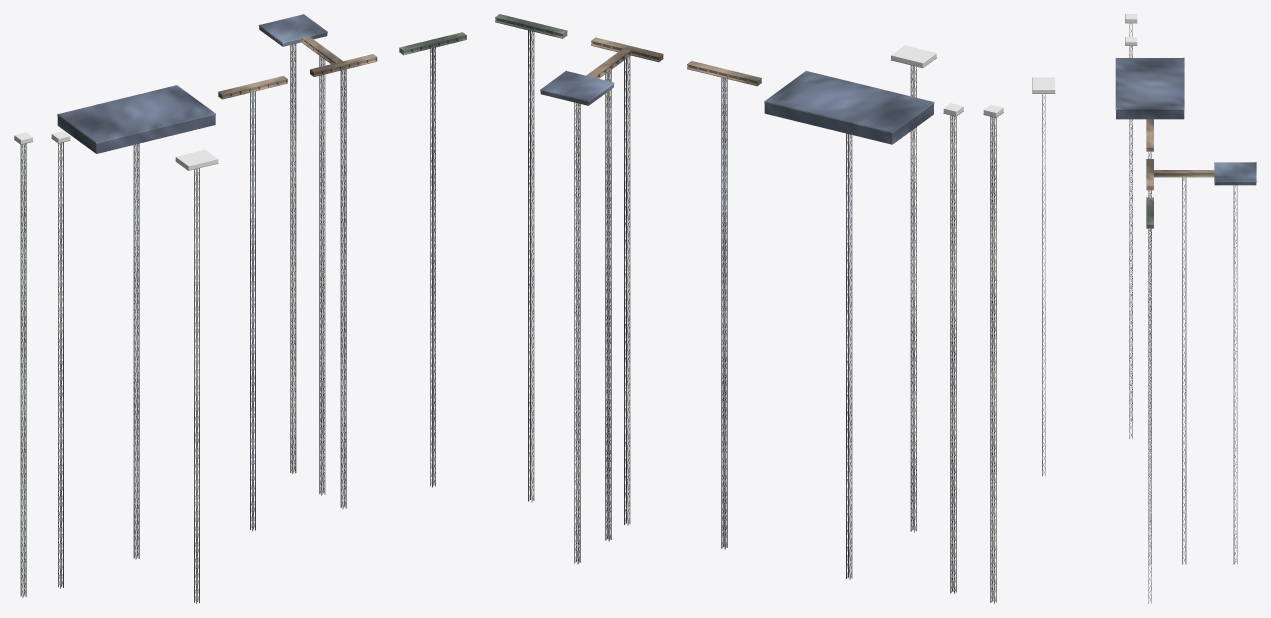
Rendered from SM_Tower_D.fbx.
3 views of the same model, side by side, from view 1: azimuth 30°, elevation 25°; view 2: azimuth 150°, elevation 25°; view 3: azimuth 270°, elevation 25° (orthographic). The views are drawn at different scales.
Visible parts, largest first — view 1: SM_Tower_D; view 2: SM_Tower_D; view 3: SM_Tower_D.
Part boxes in pixels (box(x1,y1,x2,y2)): SM_Tower_D: box(14, 14, 466, 603); SM_Tower_D: box(495, 14, 1003, 603); SM_Tower_D: box(1032, 14, 1256, 603).
Bounding box in the file's own units: 6142 × 5900 × 2955.
